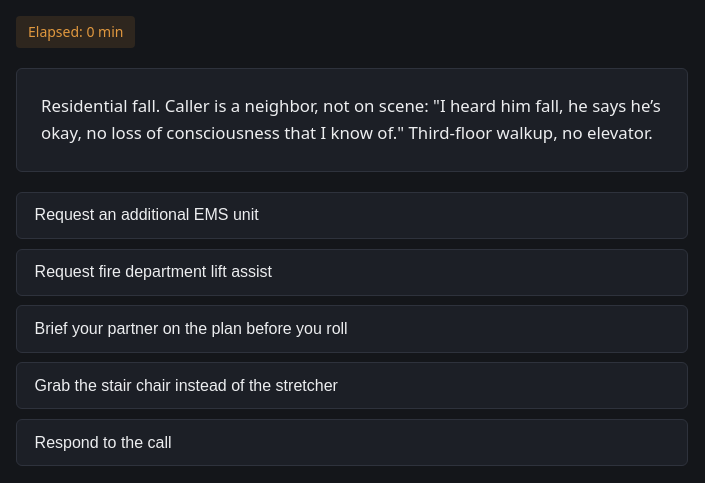
SimulatorPlayer › advances the clock when an action is chosen
This screenshot has width=705, height=483.
Click the button "Brief your partner on the plan before you roll" at (191, 328), box [16,305,688,353]
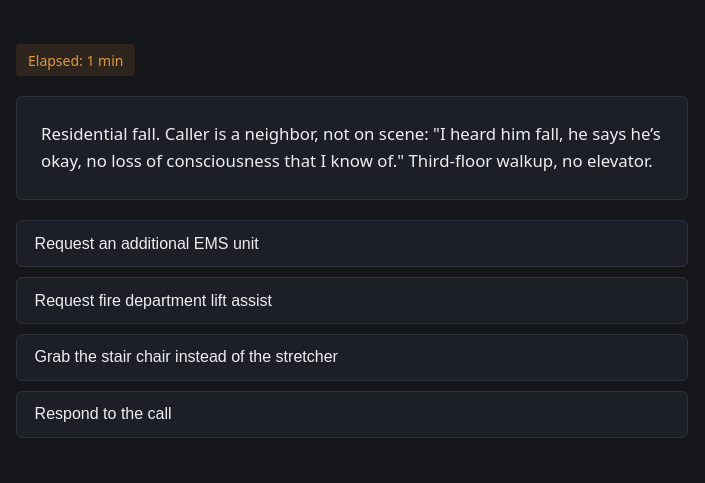
Expected: the text "Elapsed: 1 min" is shown, [16,44,136,76]
